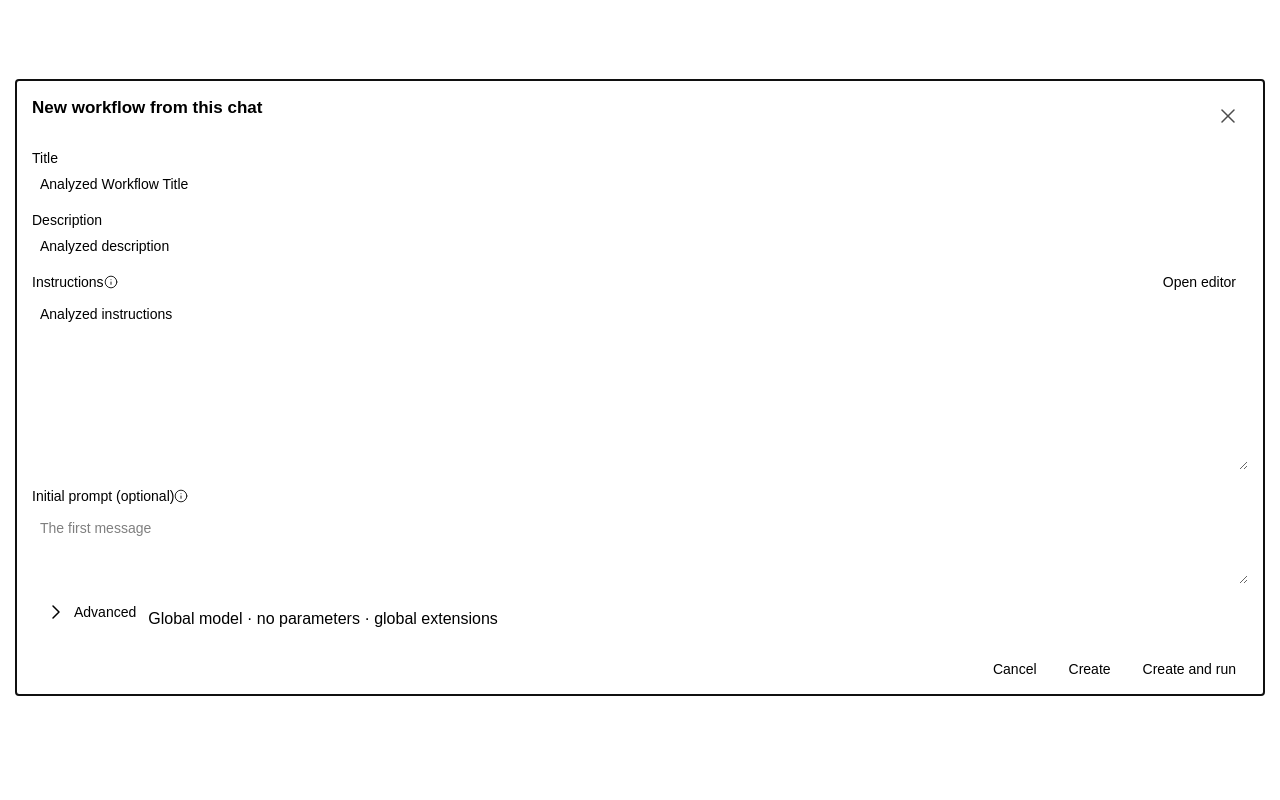
Scenario: CreateWorkflowFromSessionModal › from a private chat › when its selection cannot be read › says why no knowledge base is selected
This screenshot has width=1280, height=800.
Note: Nothing was captured, so nothing opens the advanced options for us.
What coordinates should you click on to do the following:
click the button "Advanced"
I would click on:
 (90, 612)
Its box is x1=32 y1=600 x2=148 y2=624.
(page scrolled)
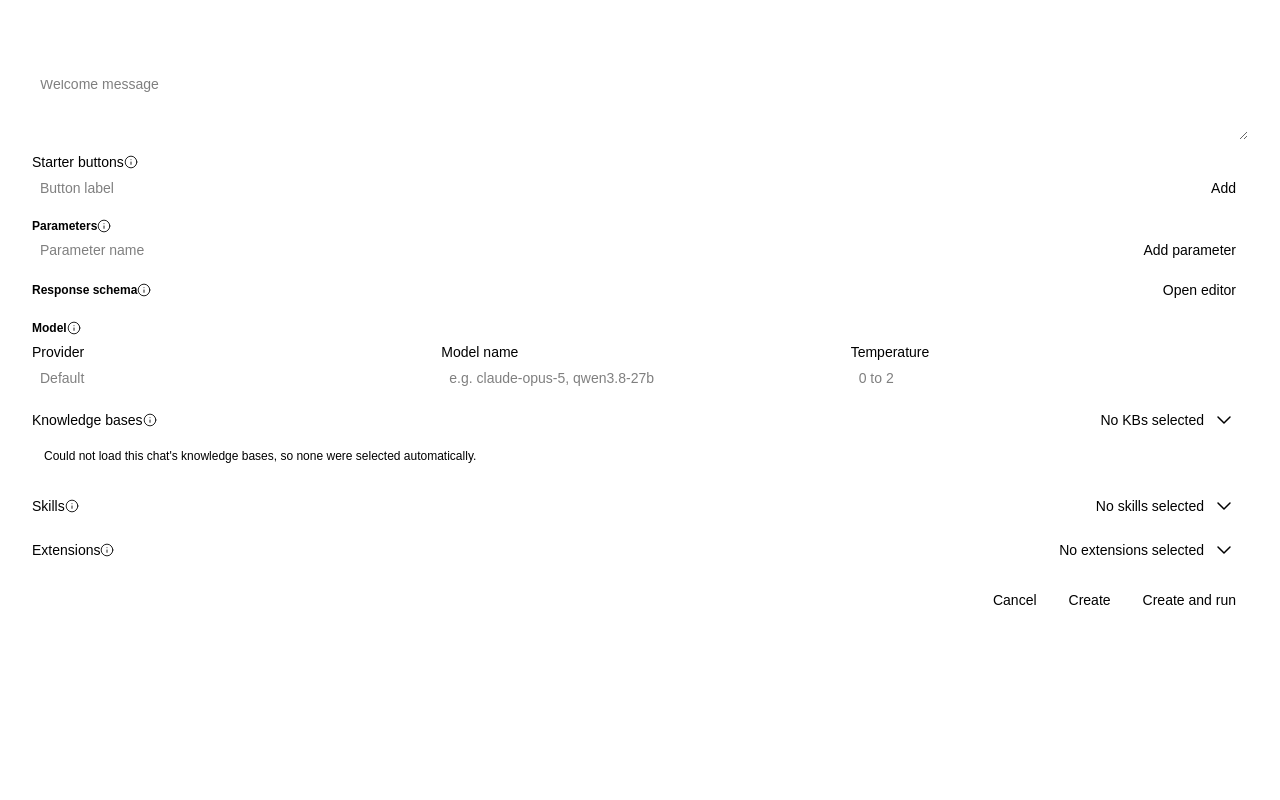
Now the text "Could not load this chat's knowledge bases, so none were selected automatically." is shown, box x1=44 y1=449 x2=476 y2=463
Now the button "No KBs selected" is shown, box x1=1088 y1=408 x2=1248 y2=432
